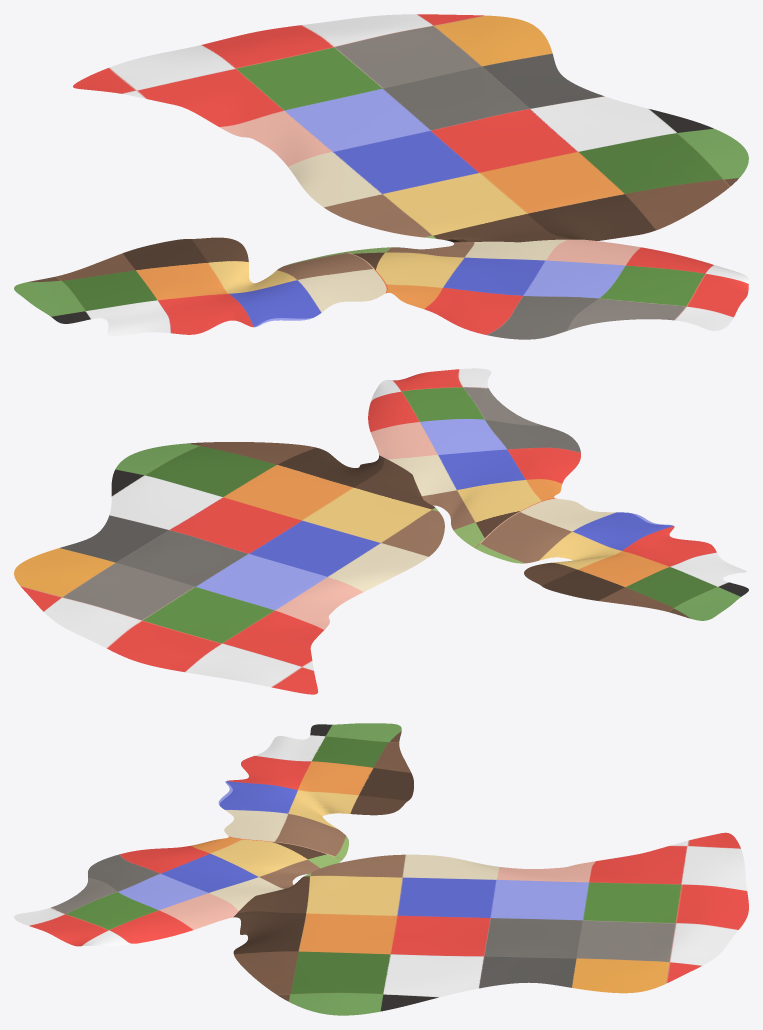
Rendered from lvl1grass_forest.fbx.
3 views of the same model, one above another, from view 1: azimuth 30°, elevation 25°; view 2: azimuth 150°, elevation 25°; view 3: azimuth 270°, elevation 25° (orthographic). The views are drawn at different scales.
Visible parts, largest first — view 1: grass_forest; view 2: grass_forest; view 3: grass_forest.
Part boxes in pixels (x1,y1,x2,y2): grass_forest: [14, 14, 748, 339]; grass_forest: [14, 368, 748, 694]; grass_forest: [14, 723, 748, 1015].
Bounding box in the file's own units: 6773 × 256 × 7276.
